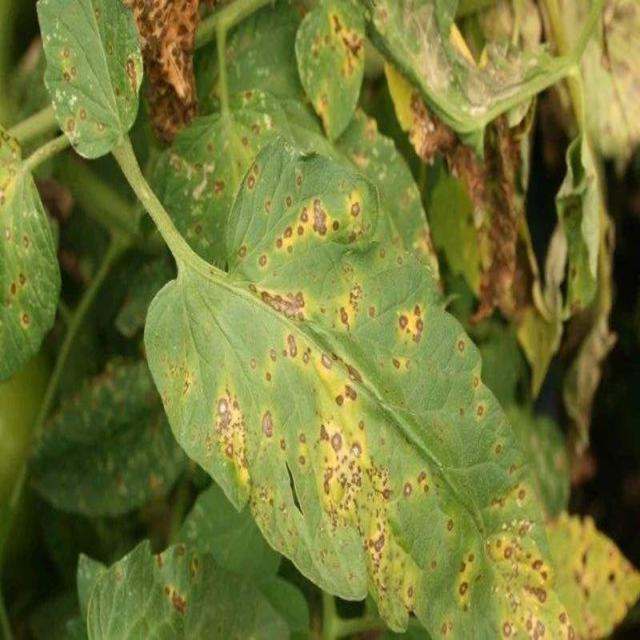Early_blight: (404, 91, 525, 323), (297, 421, 395, 609), (482, 519, 573, 640), (134, 1, 197, 143), (576, 525, 640, 640), (260, 191, 342, 252), (213, 383, 249, 485), (250, 281, 313, 326), (337, 274, 376, 333), (331, 13, 364, 77), (63, 104, 107, 140), (334, 361, 363, 407), (456, 550, 476, 614), (283, 330, 315, 367), (120, 50, 144, 97), (398, 306, 426, 344), (401, 466, 432, 499), (60, 39, 82, 85), (252, 403, 276, 441), (348, 199, 368, 244), (166, 585, 190, 613), (266, 345, 279, 385), (9, 271, 28, 296), (208, 176, 229, 198), (243, 163, 260, 190), (437, 618, 456, 640), (486, 492, 505, 513), (392, 354, 415, 371), (512, 484, 529, 505), (246, 350, 262, 372), (321, 352, 339, 370), (17, 311, 33, 330), (257, 251, 272, 270), (476, 399, 486, 419)
